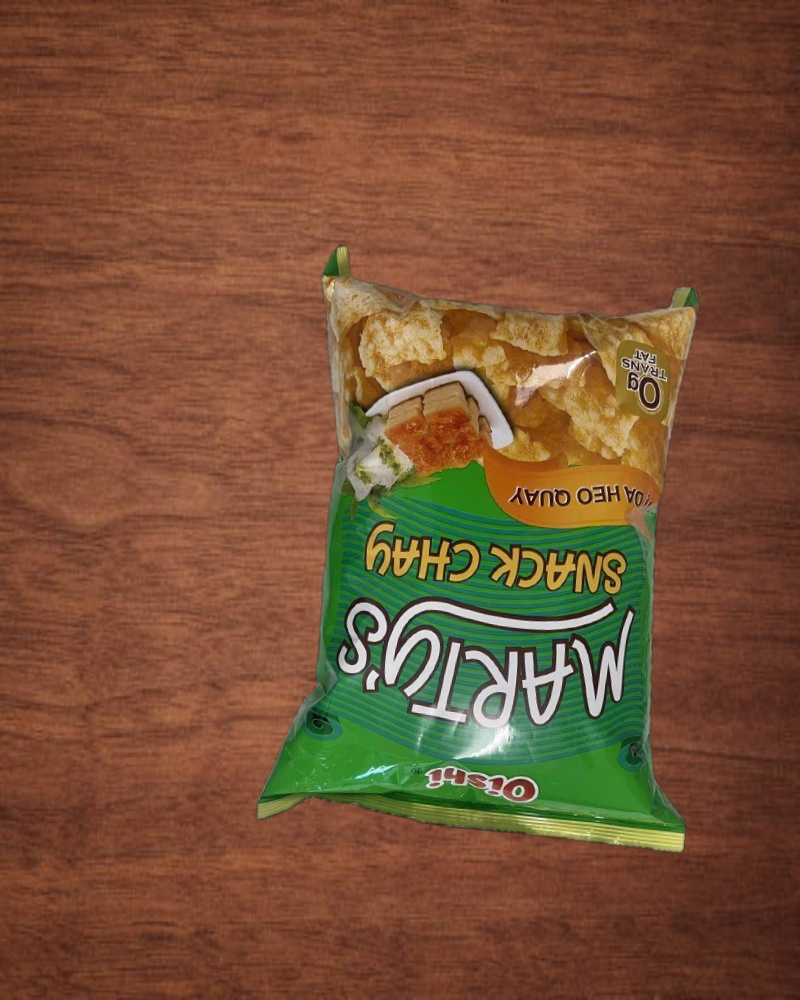Snack chay: (277, 246, 733, 858)
